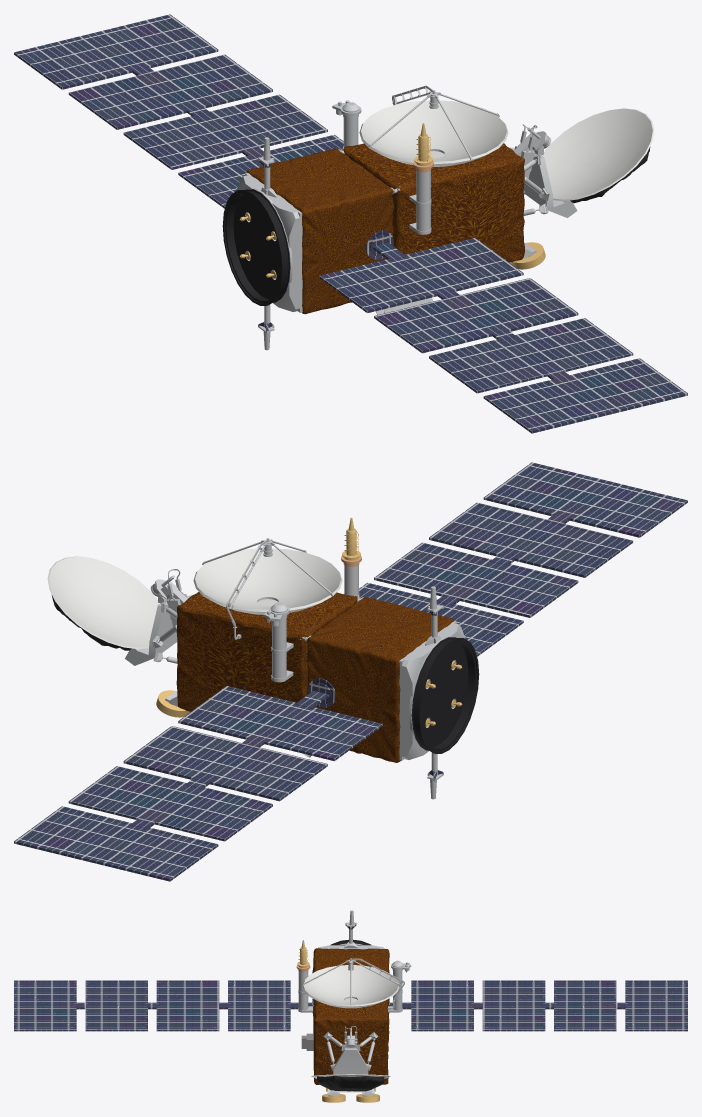
Rendered from jason-2.glb.
3 views of the same model, one above another, from view 1: azimuth 30°, elevation 25°; view 2: azimuth 150°, elevation 25°; view 3: azimuth 270°, elevation 25° (orthographic). The views are drawn at different scales.
Parts seen in each view (by area): view 1: OSTM-Jason2_Layered_016 [Layer21], OSTM-Jason2_Layered_016 [(unnamed)], OSTM-Jason2_Layered_016 [Layer10], OSTM-Jason2_Layered_016 [Layer11], OSTM-Jason2_Layered_016 [Layer9], OSTM-Jason2_Layered_016 [Layer20]; view 2: OSTM-Jason2_Layered_016 [Layer21], OSTM-Jason2_Layered_016 [(unnamed)], OSTM-Jason2_Layered_016 [Layer10], OSTM-Jason2_Layered_016 [Layer11], OSTM-Jason2_Layered_016 [Layer9], OSTM-Jason2_Layered_016 [Layer20]; view 3: OSTM-Jason2_Layered_016 [Layer21], OSTM-Jason2_Layered_016 [(unnamed)], OSTM-Jason2_Layered_016 [Layer11], OSTM-Jason2_Layered_016 [Layer10], OSTM-Jason2_Layered_016 [Layer36], OSTM-Jason2_Layered_016 [Layer20].
Boxes of the visible parts, x1,y1,x2,y2 form: OSTM-Jason2_Layered_016 [Layer21]: (14,14,687,433); OSTM-Jason2_Layered_016 [(unnamed)]: (246,143,524,314); OSTM-Jason2_Layered_016 [Layer10]: (359,100,654,201); OSTM-Jason2_Layered_016 [Layer11]: (236,85,577,350); OSTM-Jason2_Layered_016 [Layer9]: (222,189,290,305); OSTM-Jason2_Layered_016 [Layer20]: (239,123,545,278); OSTM-Jason2_Layered_016 [Layer21]: (14,462,687,881); OSTM-Jason2_Layered_016 [(unnamed)]: (176,592,454,762); OSTM-Jason2_Layered_016 [Layer10]: (47,548,342,649); OSTM-Jason2_Layered_016 [Layer11]: (125,538,465,799); OSTM-Jason2_Layered_016 [Layer9]: (411,637,479,753); OSTM-Jason2_Layered_016 [Layer20]: (156,517,462,726); OSTM-Jason2_Layered_016 [Layer21]: (14,925,687,1031); OSTM-Jason2_Layered_016 [(unnamed)]: (313,948,389,1084); OSTM-Jason2_Layered_016 [Layer11]: (298,910,411,1095); OSTM-Jason2_Layered_016 [Layer10]: (302,965,398,1078); OSTM-Jason2_Layered_016 [Layer36]: (317,1075,384,1091); OSTM-Jason2_Layered_016 [Layer20]: (297,940,379,1102).
Size of the model in its own units: 2.78 by 1.51 by 6.34.
Materials: 9 (2 with a texture image).
